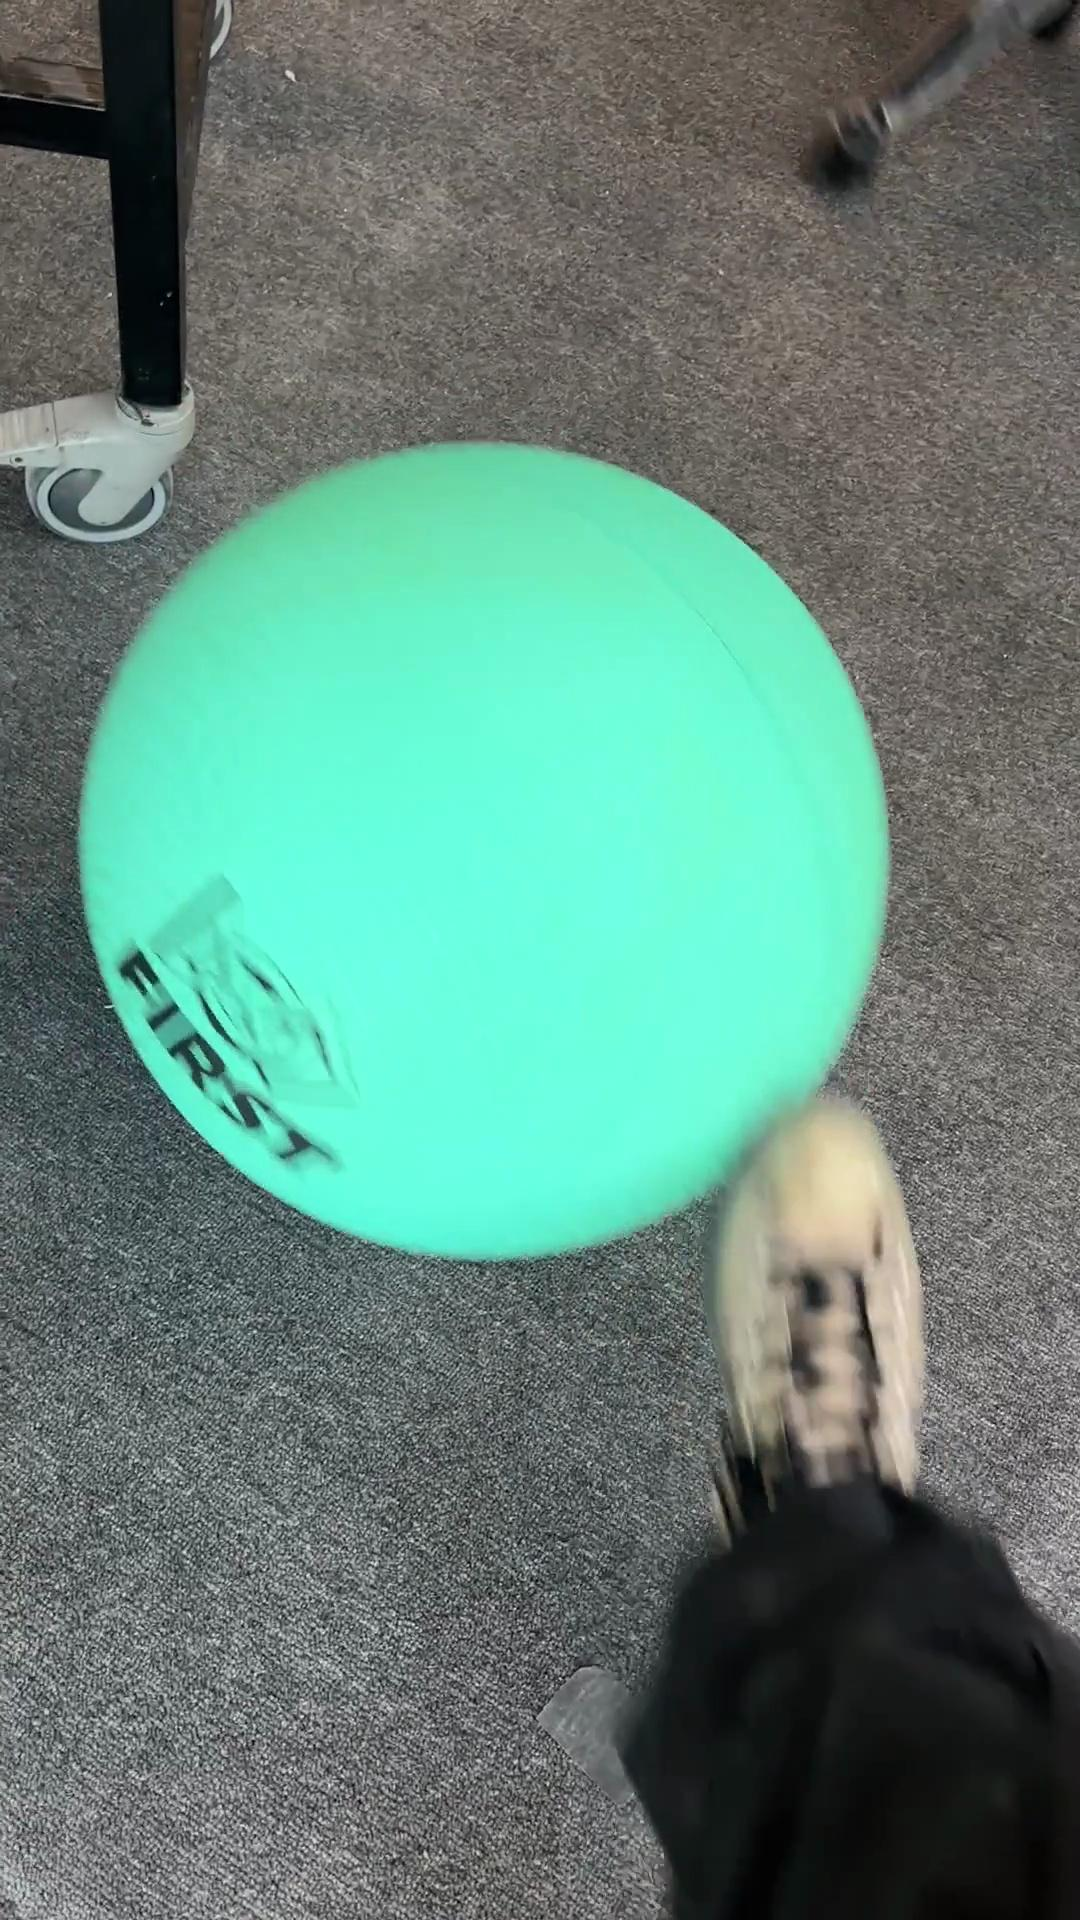ALGAE: (74, 436, 891, 1265)
